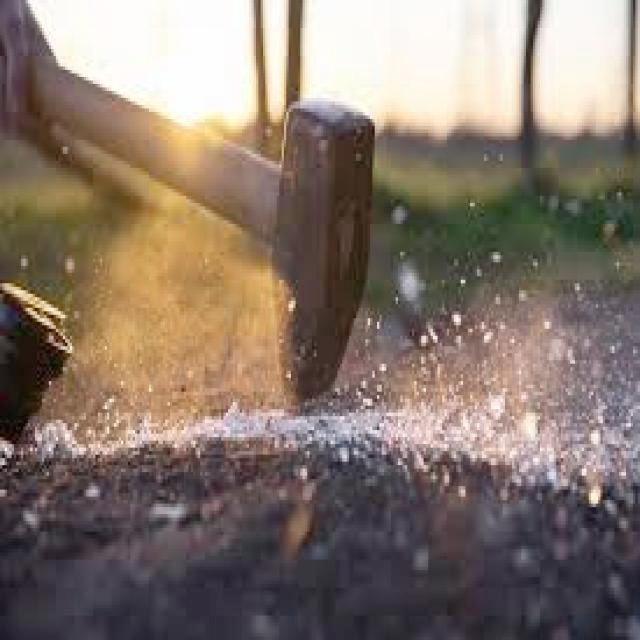hammer: (26, 61, 377, 411)
